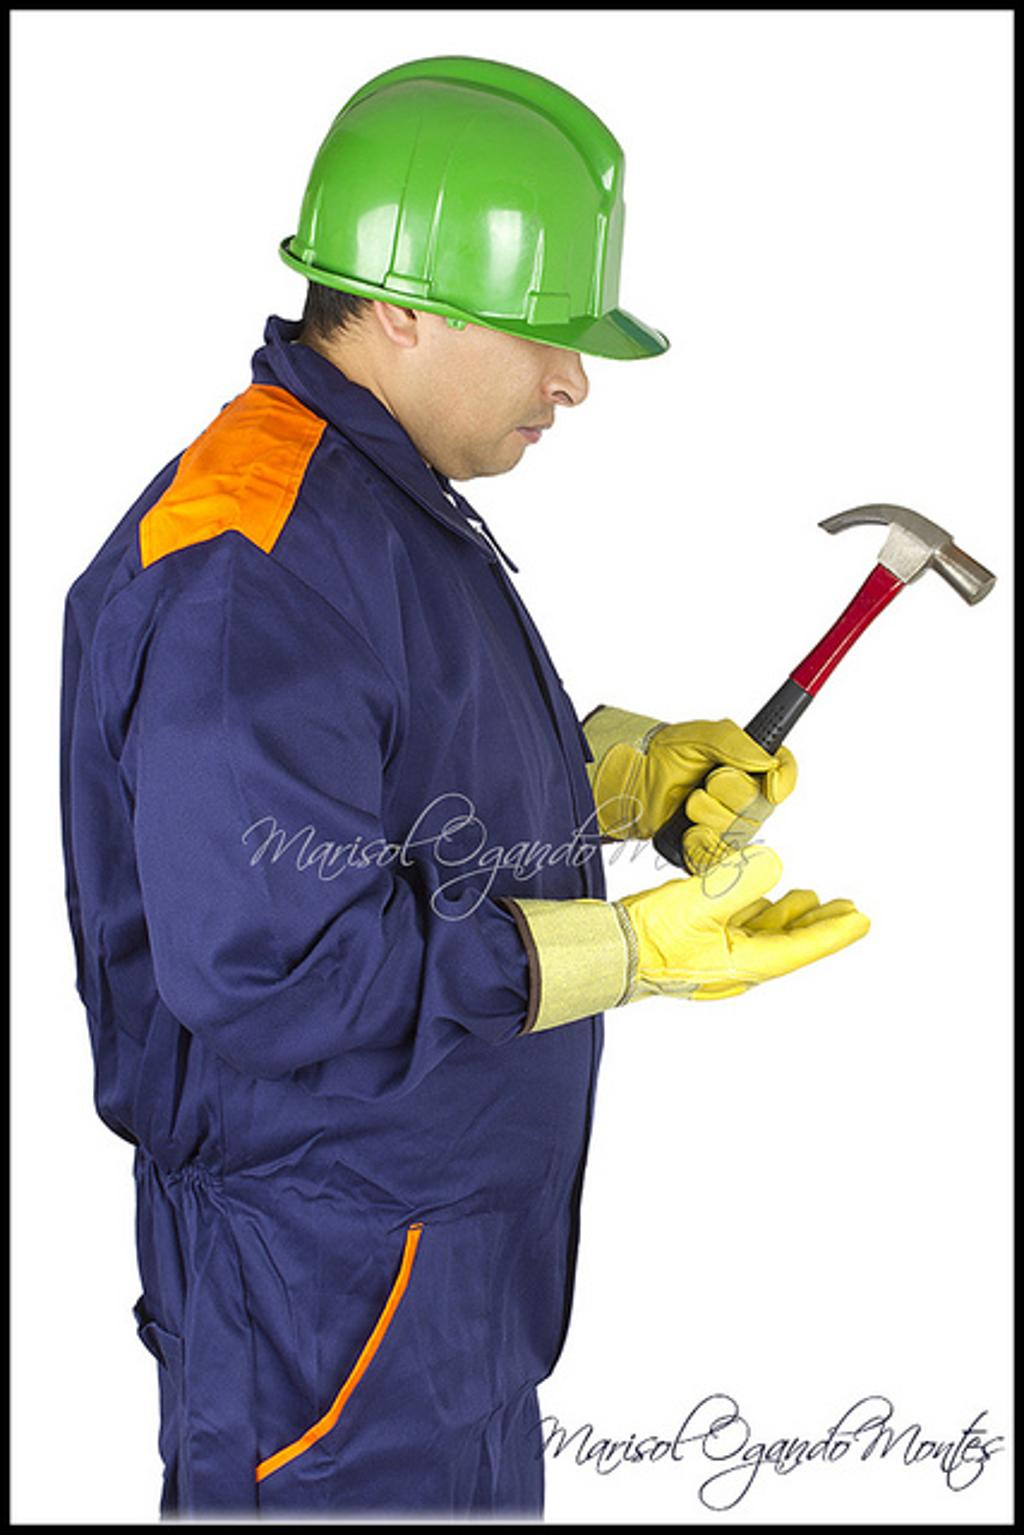face: (413, 186, 590, 467)
